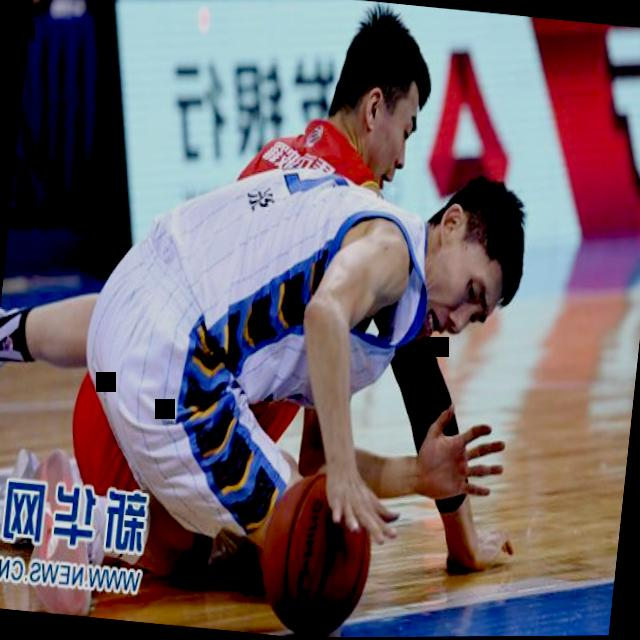Fall-Detected: (9, 77, 567, 640)
